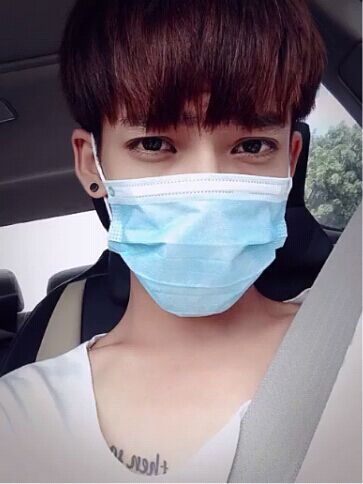face_mask: (105, 27, 293, 310)
